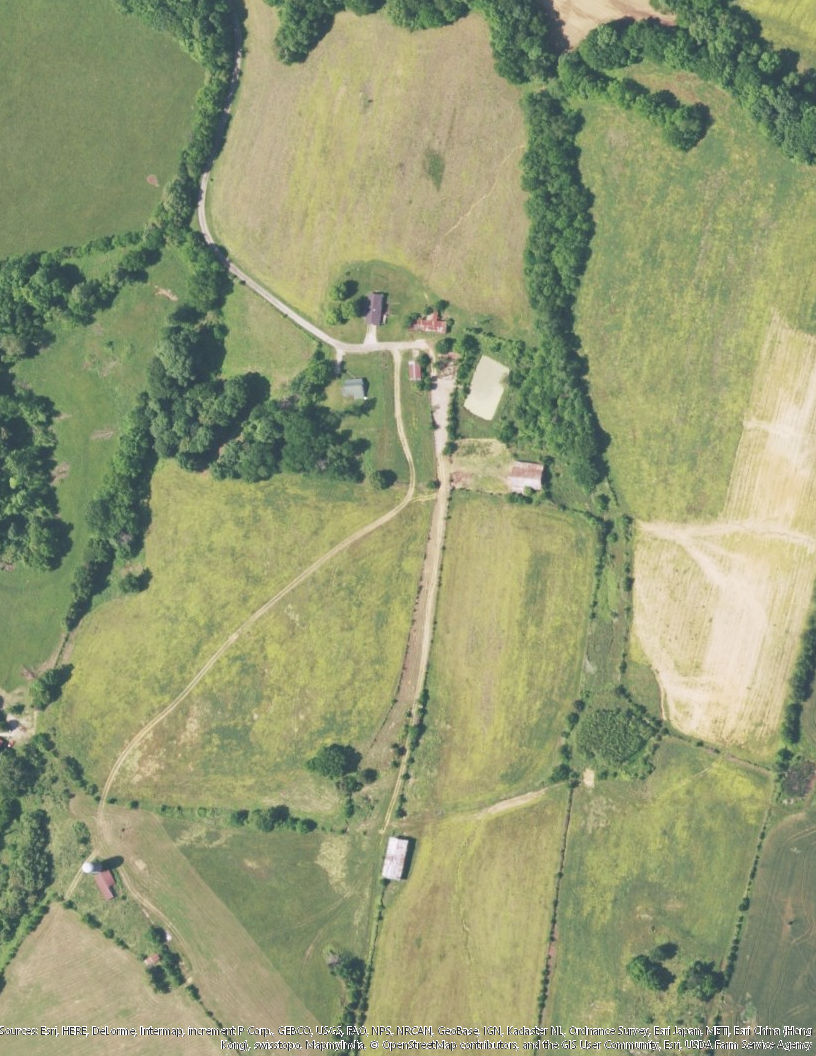cafo: (505, 459, 551, 491)
